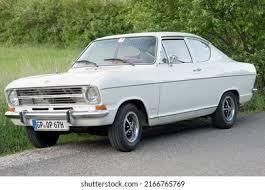opel: (41, 79, 51, 84)
